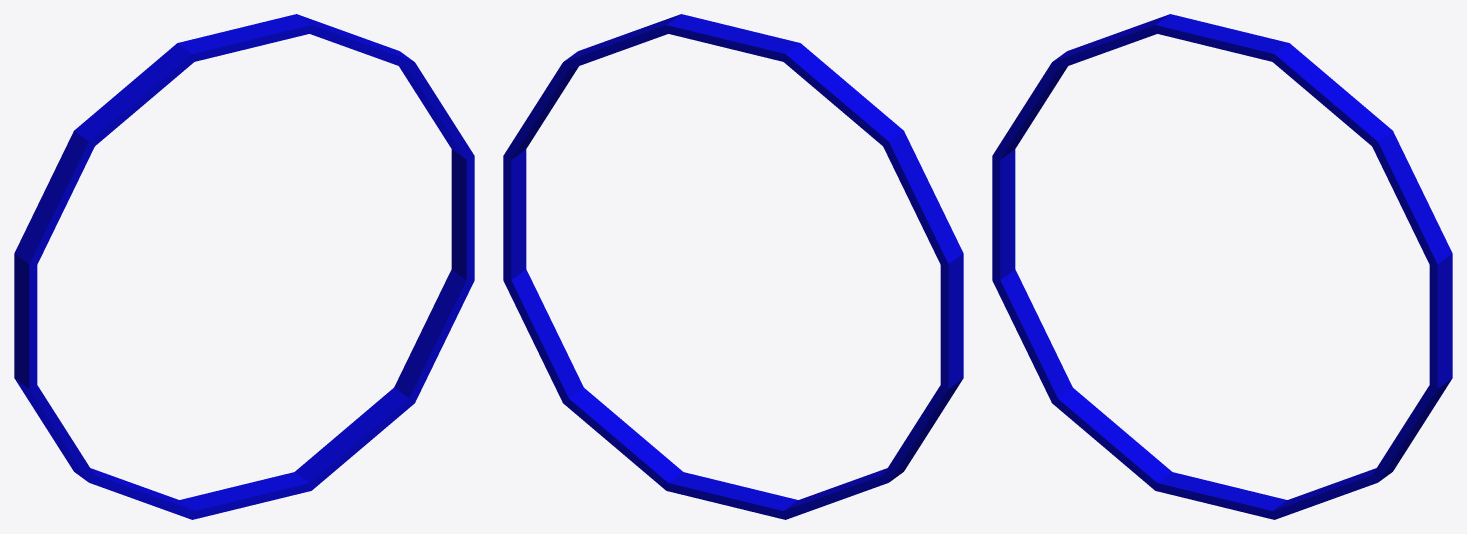
File: Rotate_Z.fbx
The picture shows the model from 3 angles, left to right: view 1: azimuth 30°, elevation 25°; view 2: azimuth 150°, elevation 25°; view 3: azimuth 330°, elevation 25°; orthographic projection.
Parts seen in each view (by area): view 1: Rotate_Z; view 2: Rotate_Z; view 3: Rotate_Z.
Boxes of the visible parts, bbox=[...] form: Rotate_Z: bbox=[14, 14, 474, 519]; Rotate_Z: bbox=[503, 14, 963, 519]; Rotate_Z: bbox=[992, 14, 1452, 519].
Bounding box in the file's own units: 1.11 × 1.11 × 0.0647.
